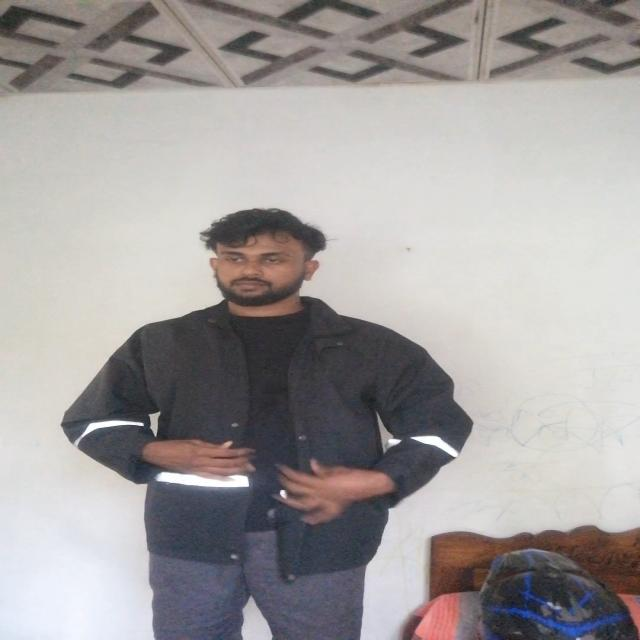Jacket_Wearer: (96, 293, 474, 575)
Person: (58, 206, 470, 640)
